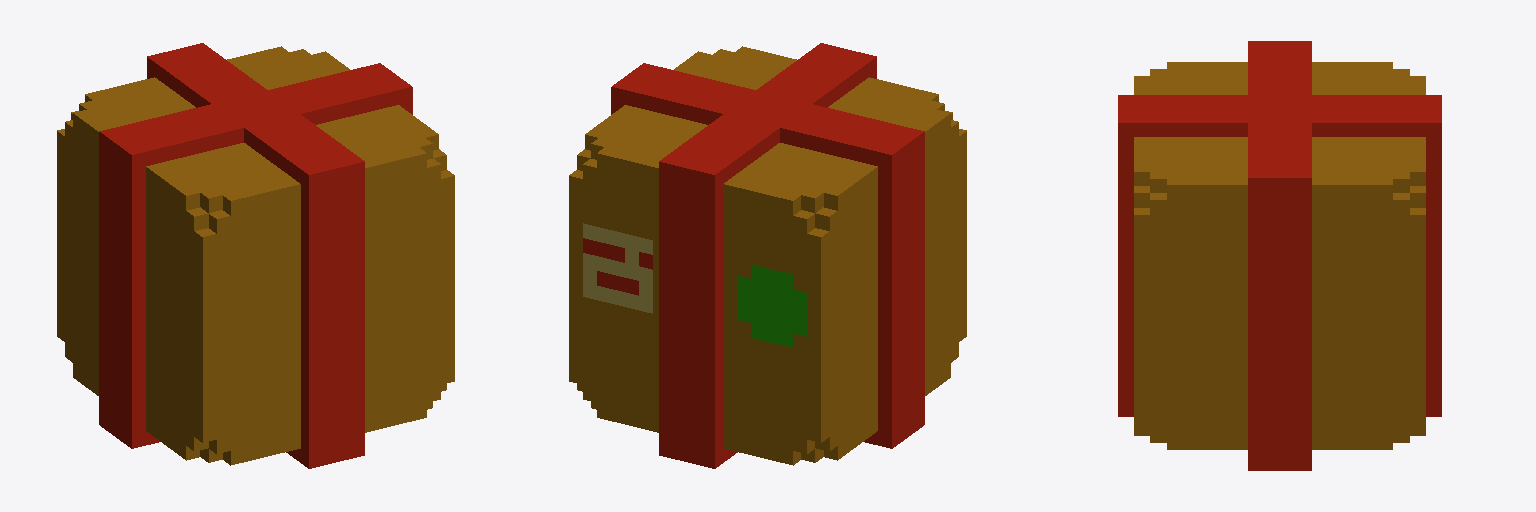
The picture shows the model from 3 angles: view 1: azimuth 30°, elevation 25°; view 2: azimuth 150°, elevation 25°; view 3: azimuth 270°, elevation 25°; orthographic projection.
Parts seen in each view (by area): view 1: object 1; view 2: object 1; view 3: object 1.
Part boxes in pixels (bbox=[...]): object 1: bbox=[57, 43, 454, 468]; object 1: bbox=[569, 43, 966, 468]; object 1: bbox=[1118, 41, 1441, 470].
Bounding box in the file's own units: 2 × 2 × 2.
Materials: 1 (1 with a texture image).